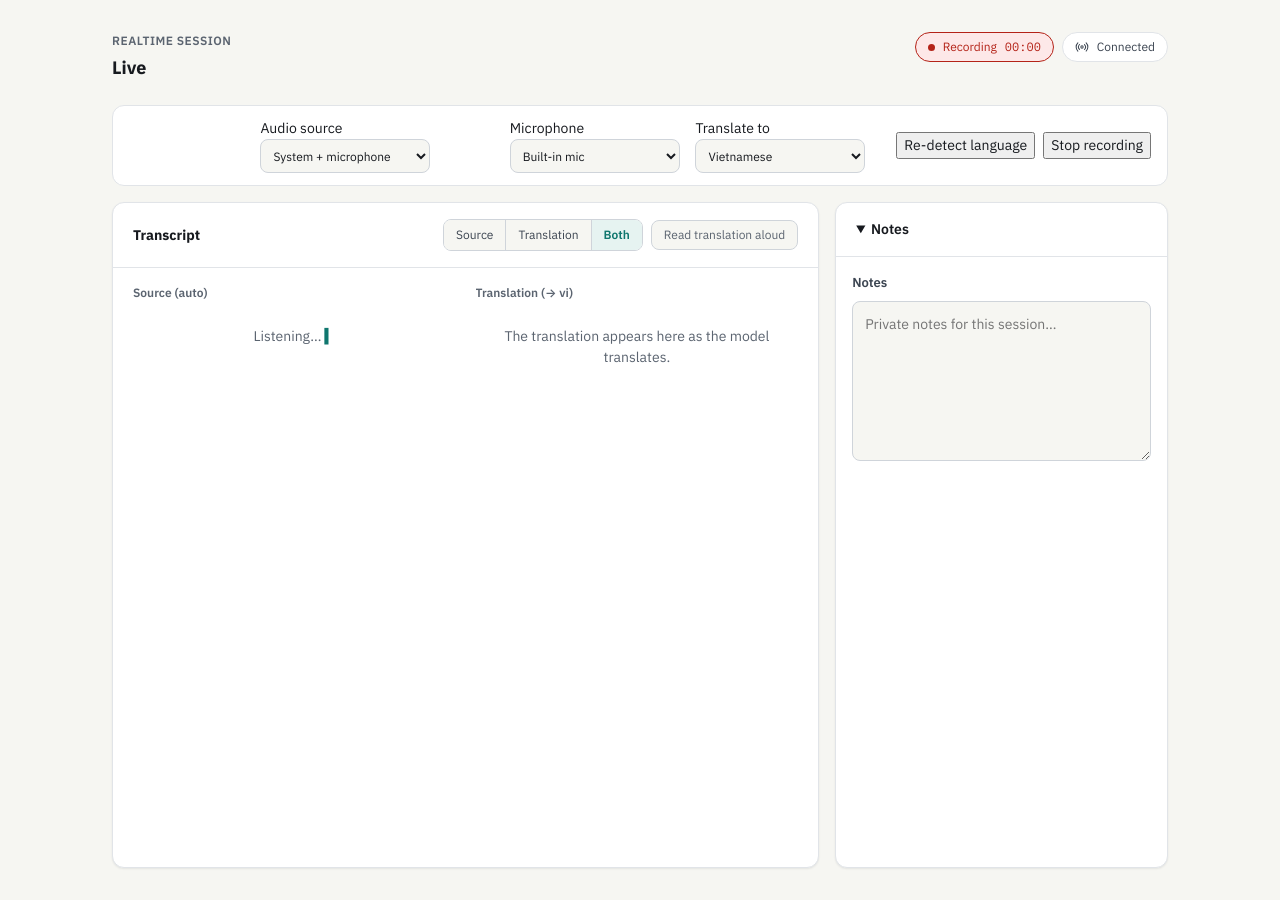
Live translation › puts the dropdown back to the real Target and explains a failed switch
expect the button "Stop recording" is shown: met, box x1=1043 y1=132 x2=1151 y2=159
Select "Japanese" in the dropdown labelled "Translate to" at (780, 156), box x1=695 y1=139 x2=865 y2=173
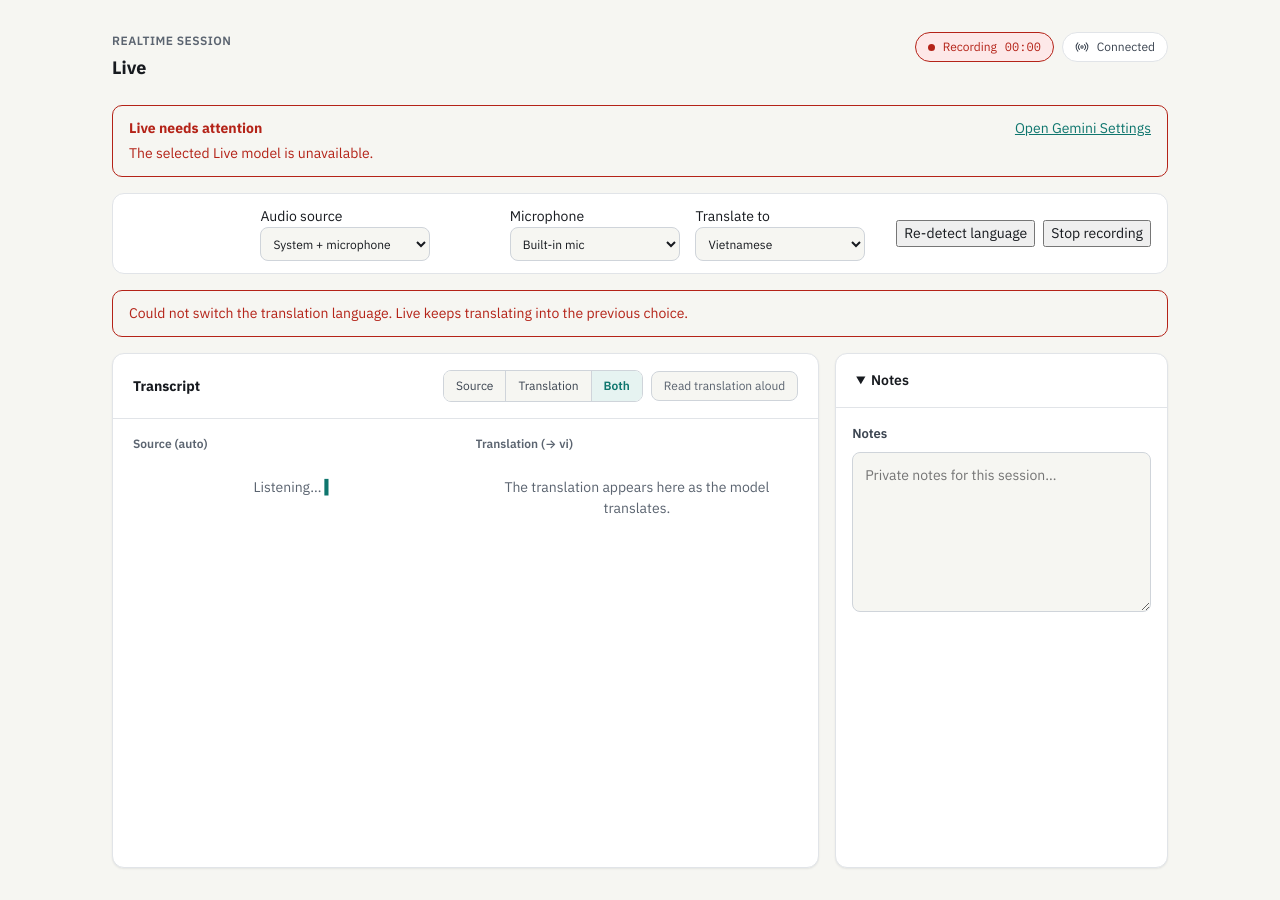
expect the text "Could not switch the translation language" is shown: met, box x1=129 y1=304 x2=688 y2=322
expect the text "The selected Live model is unavailable." is shown: met, box x1=129 y1=144 x2=373 y2=162
